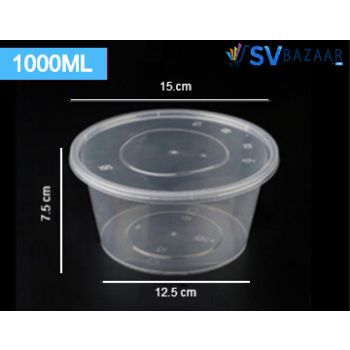PlasticBox: (67, 105, 282, 279)
